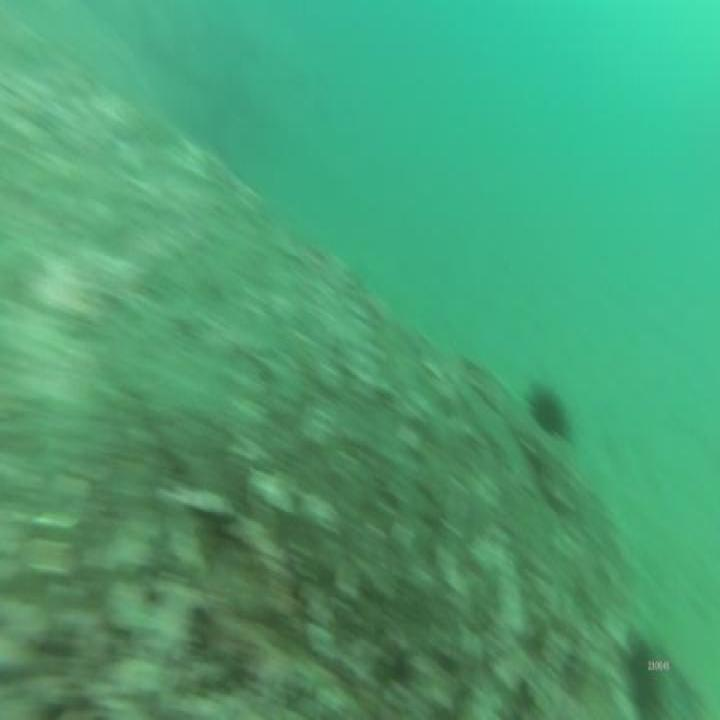echinus: (622, 626, 664, 720), (523, 377, 569, 444)
